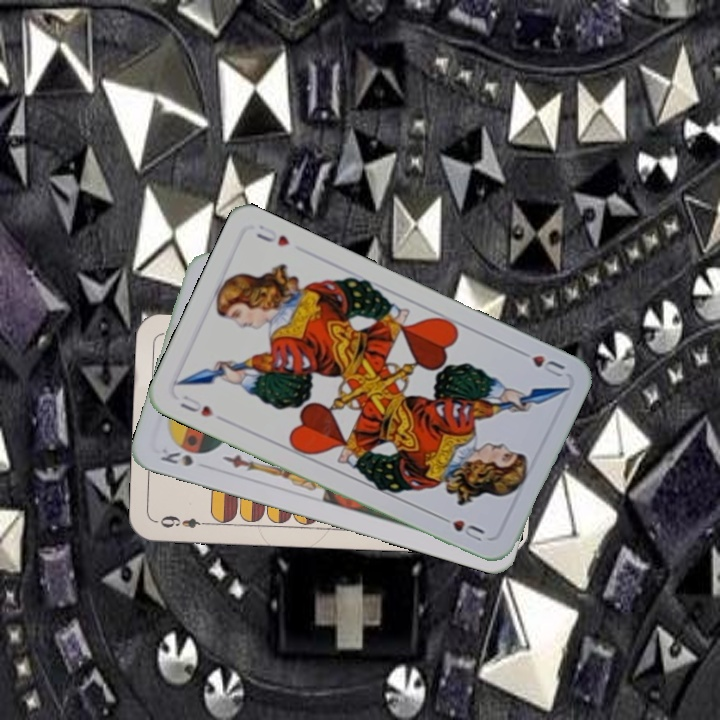E9: (153, 511, 212, 531)
HU: (513, 345, 568, 380), (176, 390, 216, 420)
SK: (156, 444, 196, 469)
